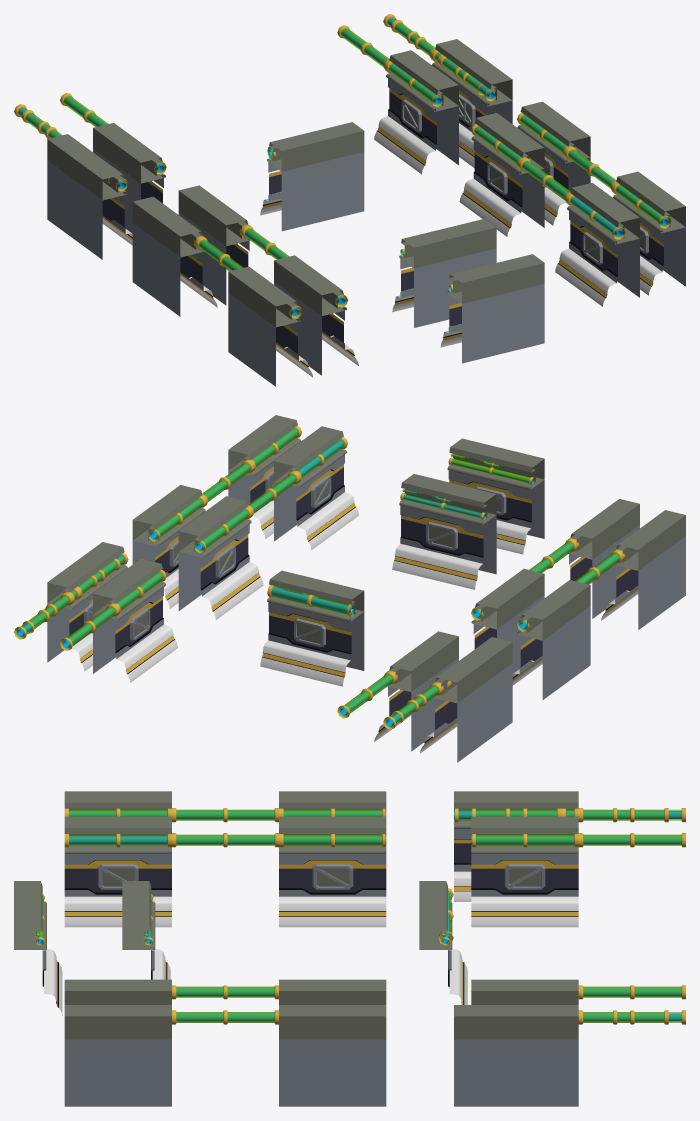
Rendered from Wall_withdetails.fbx.
3 renders of one model, top to bottom at view 1: azimuth 30°, elevation 25°; view 2: azimuth 150°, elevation 25°; view 3: azimuth 270°, elevation 25°, orthographic. The views are drawn at different scales.
Visible parts, largest first — view 1: Base (×17), Pipe1 (×14); view 2: Base (×17), Pipe1 (×18), Cage (×2), Pipe2 (×2); view 3: Base (×17), Pipe1 (×27), Cage (×3).
Part boxes in pixels (bbox=[...]): Base (×17): bbox=[47, 39, 685, 386]; Pipe1 (×14): bbox=[60, 14, 671, 270]; Base (×17): bbox=[47, 415, 685, 762]; Pipe1 (×18): bbox=[14, 425, 622, 729]; Cage (×2): bbox=[294, 521, 457, 646]; Pipe2 (×2): bbox=[400, 457, 534, 519]; Base (×17): bbox=[14, 791, 578, 1106]; Pipe1 (×27): bbox=[64, 808, 685, 1024]; Cage (×3): bbox=[97, 864, 545, 889].
Bounding box in the file's own units: 364 × 68.18 × 459.
